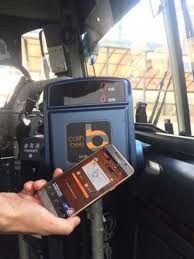terminal: (42, 76, 140, 179)
